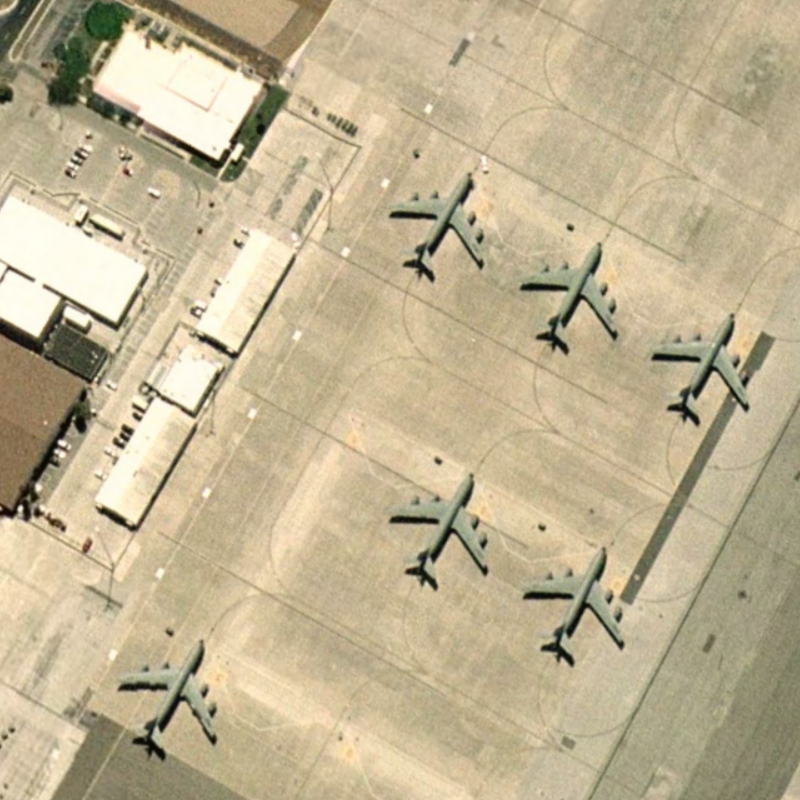A14: (517, 543, 629, 668), (385, 469, 493, 587), (116, 636, 222, 755), (649, 310, 754, 426), (388, 167, 488, 283), (520, 240, 622, 352)
